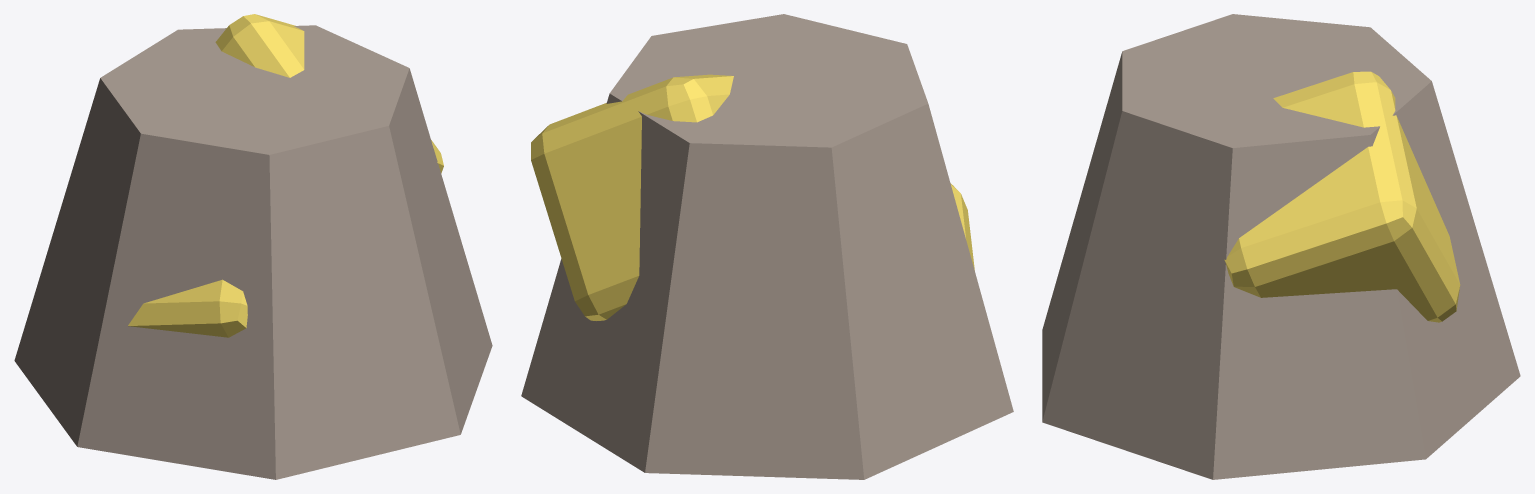
The model's file is GoldOre.fbx.
3 views of the same model, side by side, from view 1: azimuth 30°, elevation 25°; view 2: azimuth 150°, elevation 25°; view 3: azimuth 270°, elevation 25° (orthographic). The views are drawn at different scales.
Visible parts, largest first — view 1: MainMesh; view 2: MainMesh; view 3: MainMesh.
Boxes of the visible parts, bbox=[...] form: MainMesh: bbox=[14, 14, 492, 479]; MainMesh: bbox=[521, 14, 1013, 479]; MainMesh: bbox=[1042, 14, 1520, 479].
Size of the model in its own units: 1.66 by 1.2 by 1.62.
